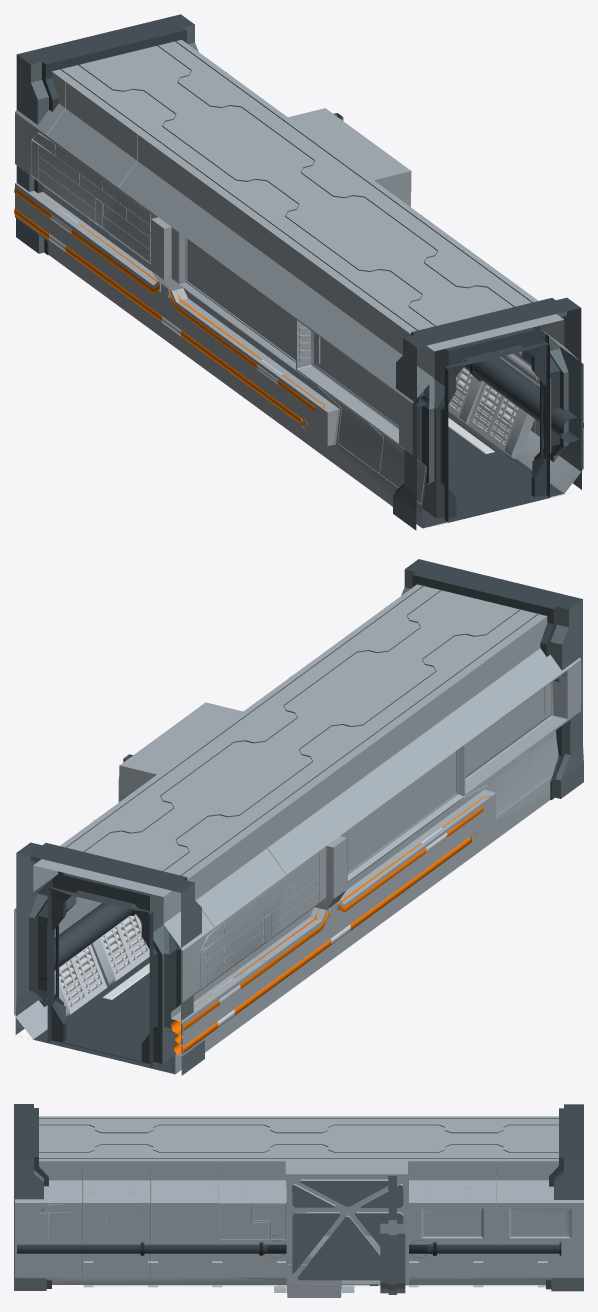
Rendered from ROOMx2_1.fbx.
The picture shows the model from 3 angles, top to bottom: view 1: azimuth 30°, elevation 25°; view 2: azimuth 150°, elevation 25°; view 3: azimuth 270°, elevation 25°; orthographic projection. The views are drawn at different scales.
Visible parts, largest first — view 1: MainTonel, ROOMx2_1, MainTonel.004, OptionAIDKIT, MainTonel.002, MainTonel.005; view 2: MainTonel, ROOMx2_1, MainTonel.004, MainTonel.005, OptionAIDKIT, MainTonel.002; view 3: MainTonel, OptionAIDKIT, ROOMx2_1, MainTonel.002, Gen, OptionGenerator, OptionHIDE, MainTonel.005, OptionEMPTY.001.
Boxes of the visible parts, box(x1,y1,x2,y2) form: MainTonel: box(15, 39, 583, 528); ROOMx2_1: box(16, 14, 581, 530); MainTonel.004: box(14, 188, 324, 429); OptionAIDKIT: box(288, 108, 411, 206); MainTonel.002: box(417, 358, 583, 442); MainTonel.005: box(448, 367, 520, 452); MainTonel: box(14, 584, 581, 1074); ROOMx2_1: box(15, 559, 583, 1075); MainTonel.004: box(171, 796, 490, 1054); MainTonel.005: box(54, 914, 149, 1015); OptionAIDKIT: box(118, 702, 242, 802); MainTonel.002: box(37, 903, 135, 980); MainTonel: box(15, 1116, 583, 1297); OptionAIDKIT: box(285, 1161, 408, 1284); ROOMx2_1: box(14, 1104, 583, 1291); MainTonel.002: box(17, 1242, 561, 1255); Gen: box(286, 1174, 405, 1294); OptionGenerator: box(286, 1174, 408, 1282); OptionHIDE: box(274, 1264, 354, 1292); MainTonel.005: box(93, 1285, 537, 1286); OptionEMPTY.001: box(261, 1242, 435, 1255).
Size of the model in its own units: 3.06 by 2.54 by 10.02.
Materials: 3 (2 with a texture image).
